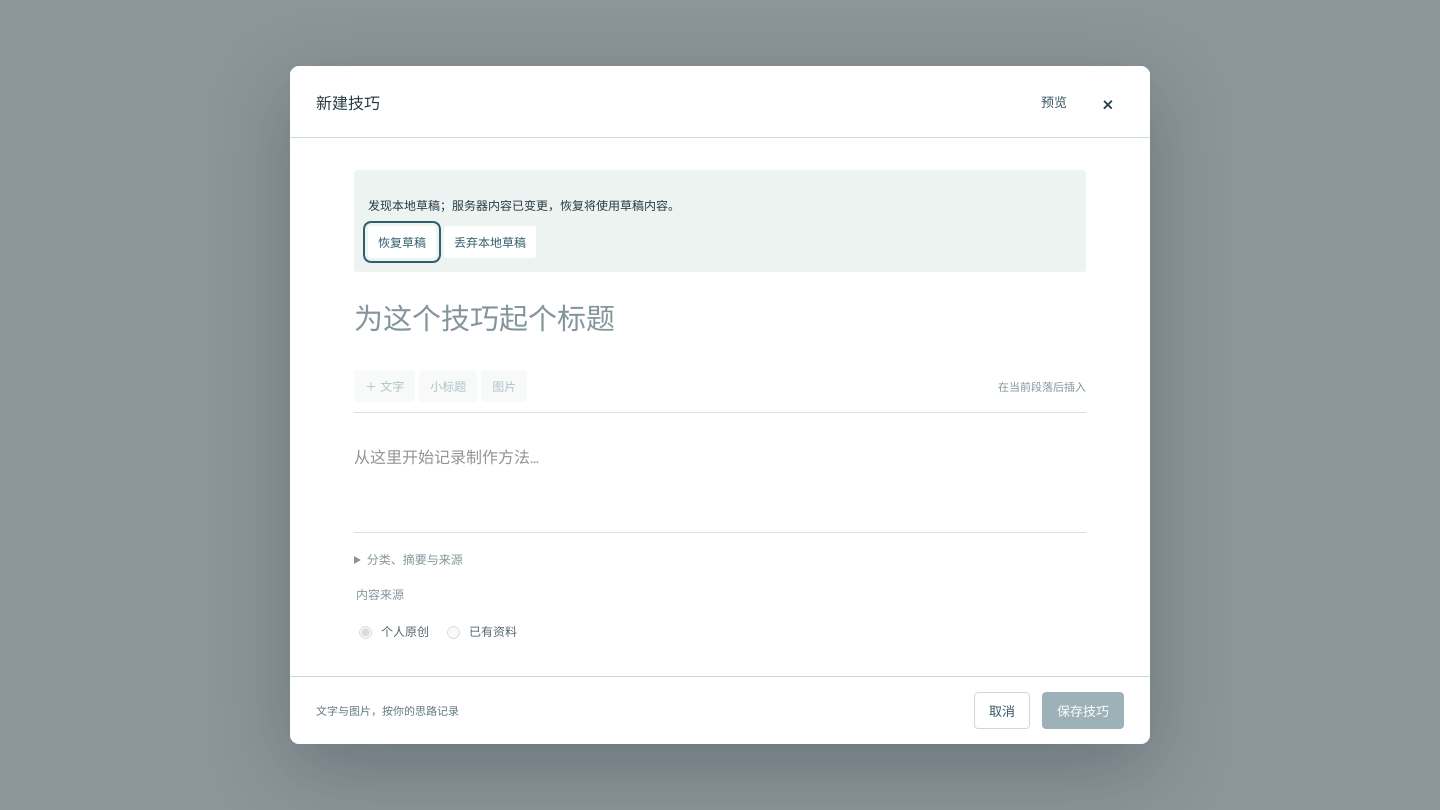
requires an explicit recovery choice and warns about changed server content
The image size is (1440, 810).
Expected: the field labelled "标题" is disabled, [354, 290, 1086, 360]
Expected: the text "发现本地草稿；服务器内容已变更，恢复将使用草稿内容。" is shown, [368, 198, 680, 214]
Step 1. Click the button "恢复草稿" → (402, 242), box [368, 226, 436, 258]
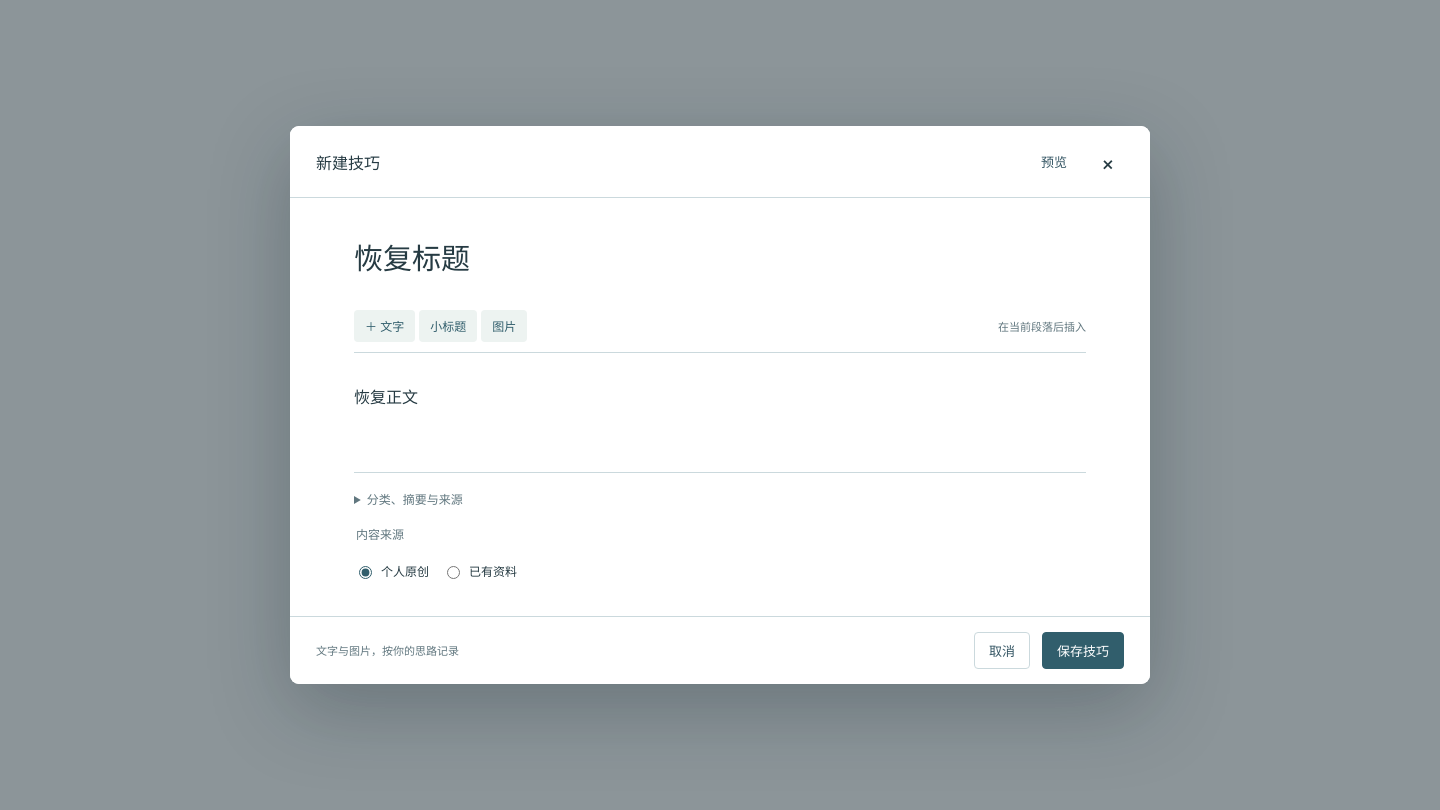
Expected: the field named "标题" is enabled, [354, 230, 1086, 300]
Expected: the text box showing "恢复正文" is shown, [354, 377, 1086, 433]
